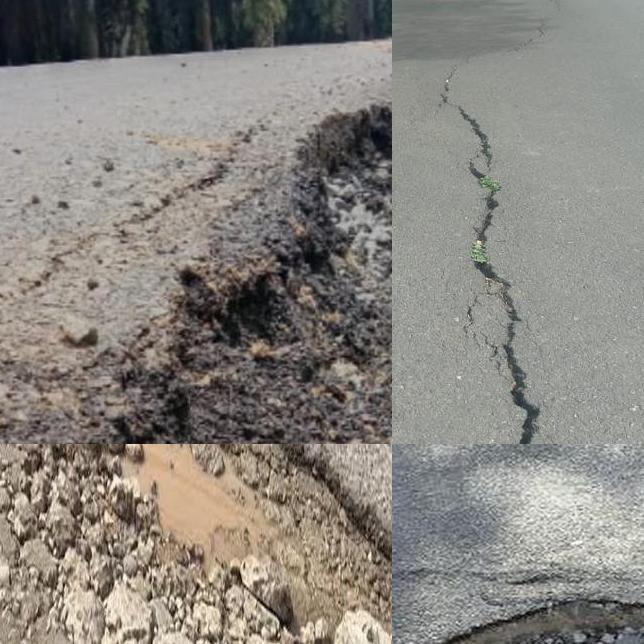Lubang: (446, 597, 644, 644)
Memanjang: (431, 43, 554, 444)
Pinggir: (58, 34, 392, 444), (0, 444, 392, 644)
